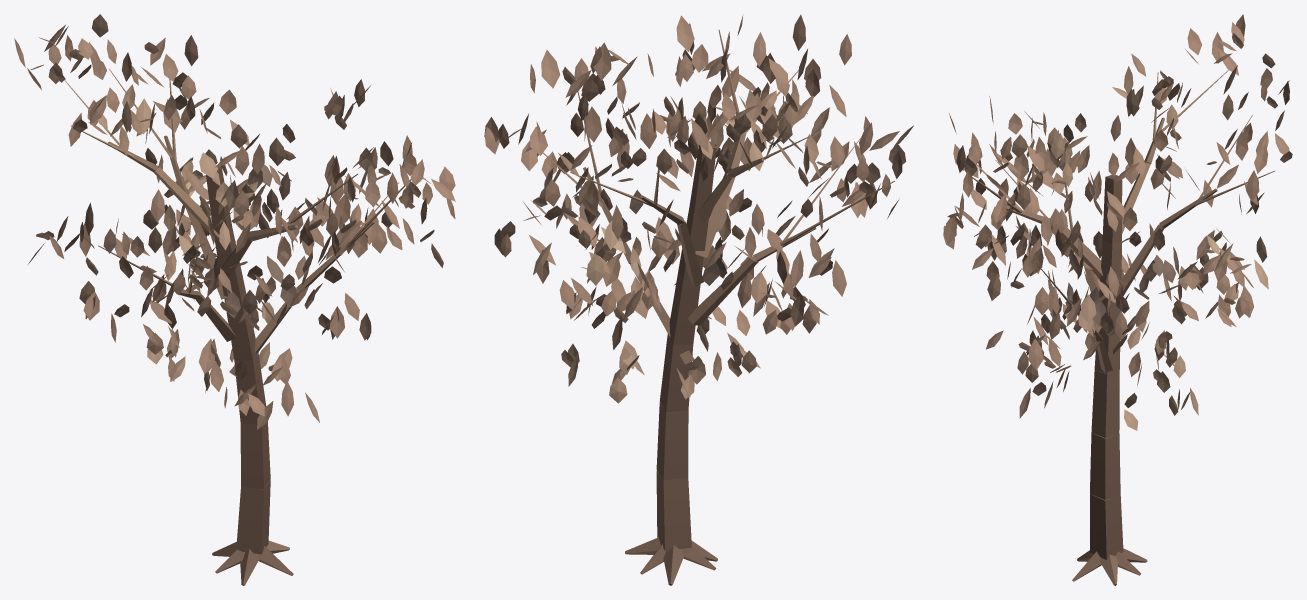
The model's file is tree_3d_06_copper.glb.
3 renders of one model, left to right at view 1: azimuth 30°, elevation 25°; view 2: azimuth 150°, elevation 25°; view 3: azimuth 270°, elevation 25°, orthographic. The views are drawn at different scales.
Parts seen in each view (by area): view 1: tree_3d_06_copper_foliage, tree_3d_06_copper_wood; view 2: tree_3d_06_copper_foliage, tree_3d_06_copper_wood; view 3: tree_3d_06_copper_foliage, tree_3d_06_copper_wood.
Part boxes in pixels (x1,y1,x2,y2): tree_3d_06_copper_foliage: [14, 14, 455, 429]; tree_3d_06_copper_wood: [64, 68, 411, 585]; tree_3d_06_copper_foliage: [484, 14, 913, 403]; tree_3d_06_copper_wood: [543, 29, 894, 585]; tree_3d_06_copper_foliage: [943, 14, 1292, 430]; tree_3d_06_copper_wood: [969, 70, 1274, 585].
Bounding box in the file's own units: 5.8 × 8 × 5.2.
